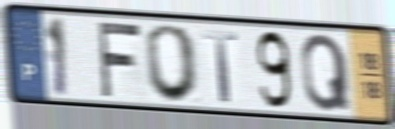1: (43, 15, 73, 99)
9: (253, 29, 294, 111)
F: (94, 19, 143, 100)
O: (144, 22, 202, 105)
Q: (299, 31, 354, 115)
T: (201, 29, 240, 105)
